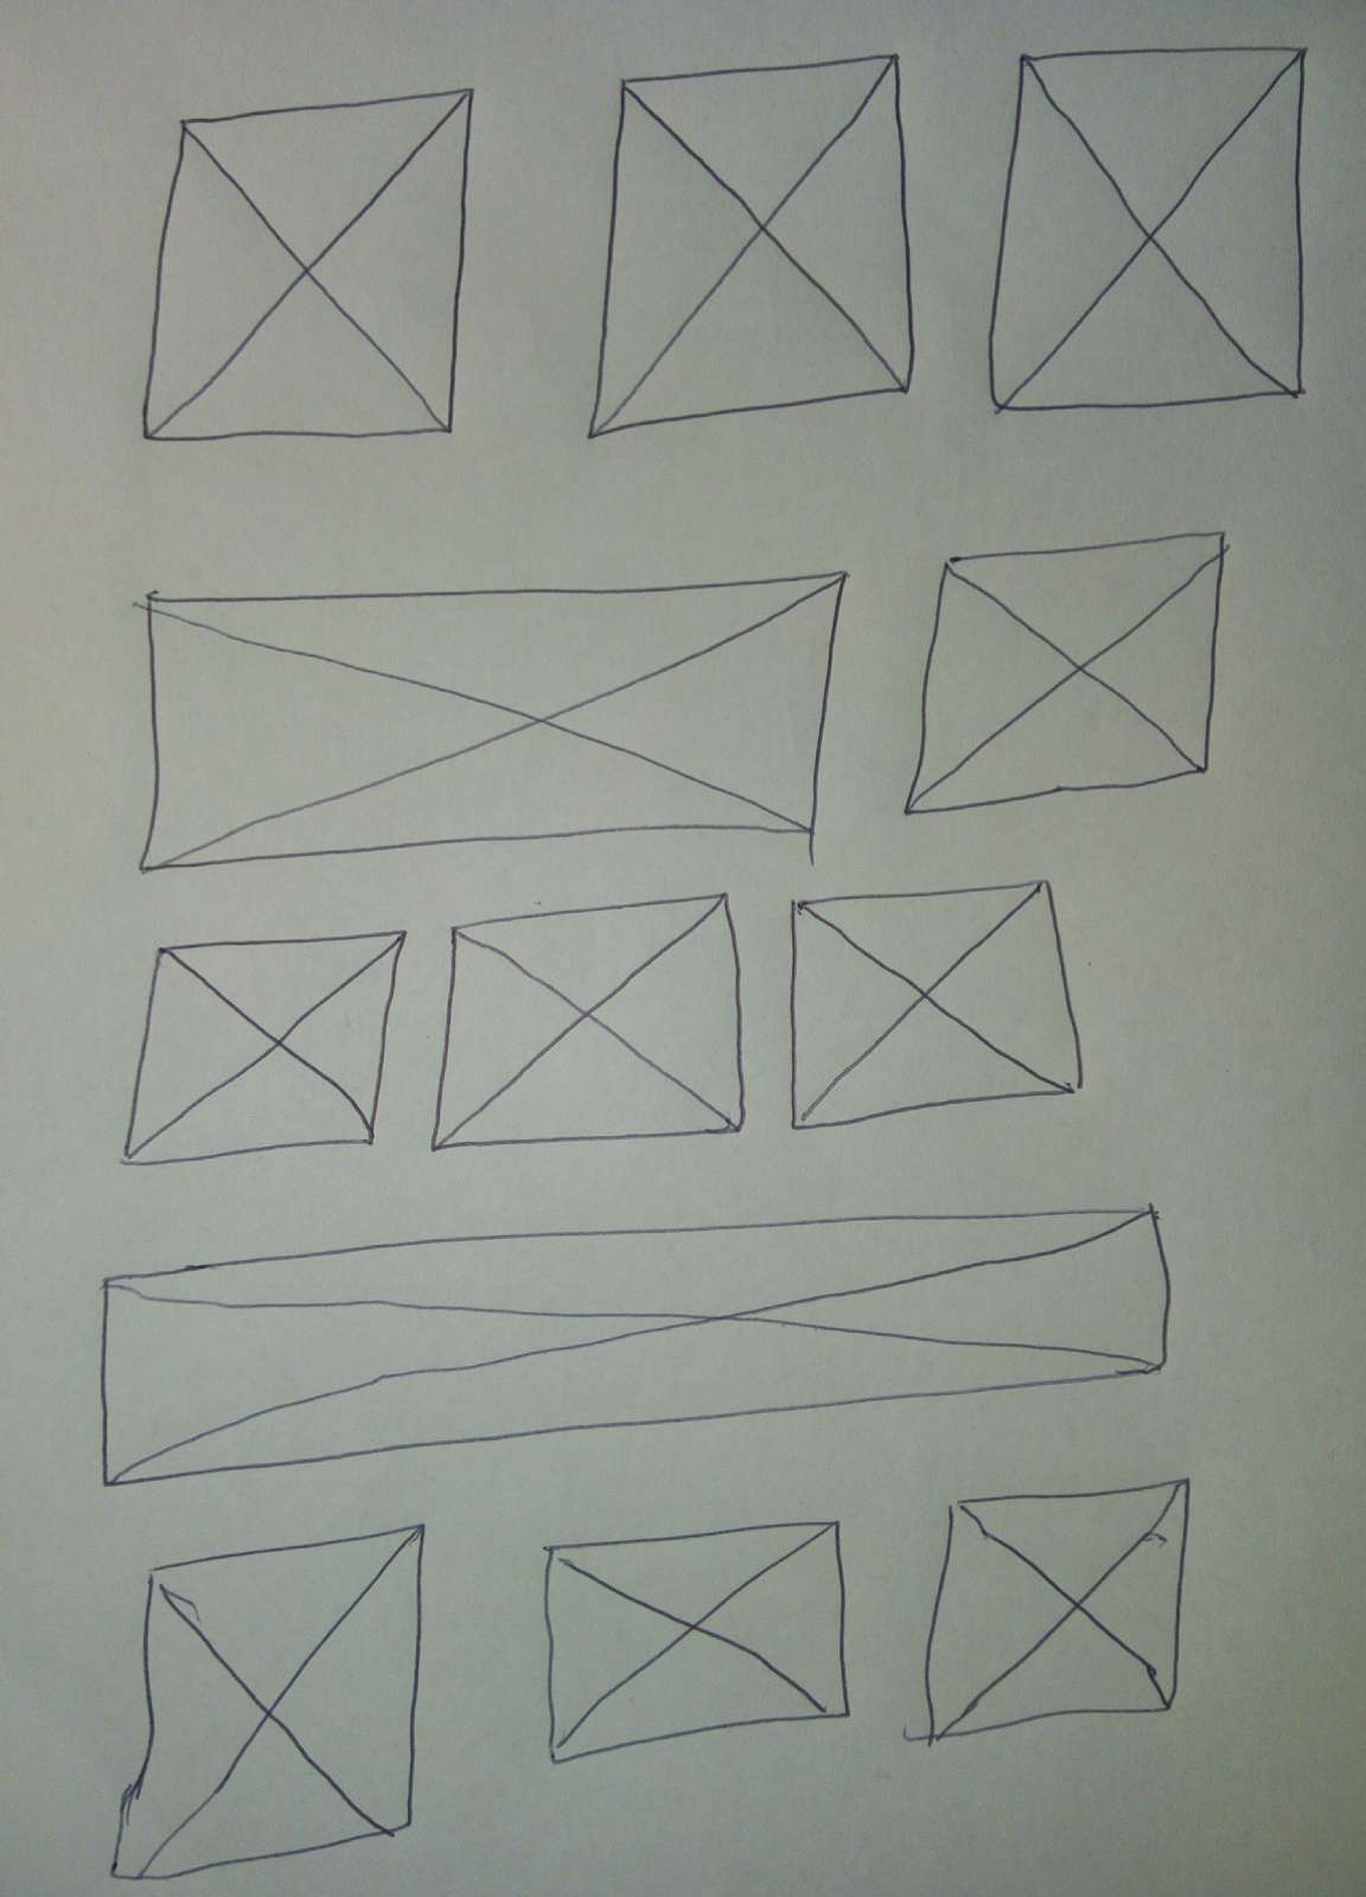Image: (99, 1205, 1171, 1488), (136, 566, 852, 876), (586, 52, 917, 440), (139, 85, 479, 443), (986, 43, 1307, 415), (109, 1520, 429, 1885), (897, 524, 1232, 817), (426, 893, 749, 1153), (541, 1518, 852, 1764), (787, 878, 1086, 1133), (922, 1474, 1197, 1742), (116, 926, 407, 1168)
